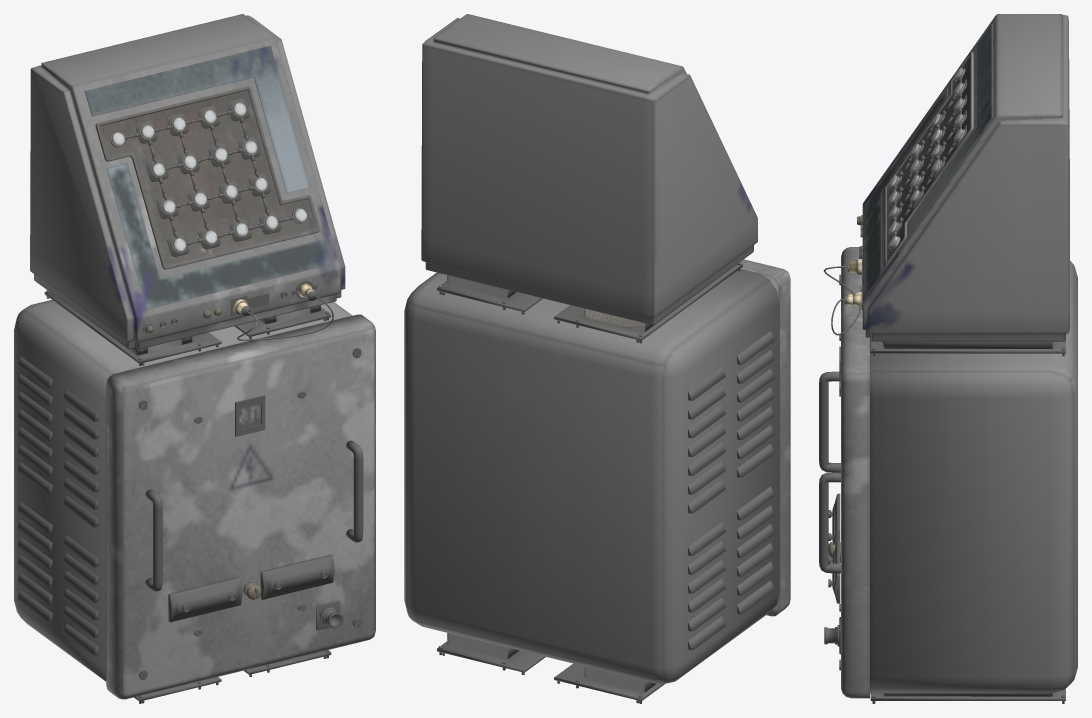
File: panel_kostnica_fin.glb
3 renders of one model, left to right at view 1: azimuth 30°, elevation 25°; view 2: azimuth 150°, elevation 25°; view 3: azimuth 270°, elevation 25°, orthographic. The views are drawn at different scales.
Visible parts, largest first — view 1: Cube.033, Plane.021, Cube.032, Plane.022, Plane.024, Plane.026, Plane.014, Cylinder.042, Plane.018, Plane.016, Plane.019, Plane.017 (+3 smaller); view 2: Cube.032, Plane.021, Cube.033, Cylinder.042, Cylinder.053, Plane.016, Plane.018, Plane.017, Plane.019; view 3: Cube.032, Plane.021, Cube.033, Plane.022, Cylinder.042, Plane.024, Cylinder.033, Plane.026, Cylinder.053, Plane.014.
Boxes of the visible parts, bbox=[...] form: Cube.033: bbox=[106, 314, 375, 699]; Plane.021: bbox=[30, 14, 345, 349]; Cube.032: bbox=[14, 300, 352, 681]; Plane.022: bbox=[95, 86, 320, 269]; Plane.024: bbox=[85, 45, 310, 193]; Plane.026: bbox=[106, 163, 331, 309]; Plane.014: bbox=[168, 554, 334, 622]; Cylinder.042: bbox=[44, 290, 331, 365]; Plane.018: bbox=[63, 389, 98, 527]; Plane.016: bbox=[17, 356, 52, 493]; Plane.019: bbox=[63, 535, 98, 655]; Plane.017: bbox=[17, 502, 52, 621]; Cube.032: bbox=[404, 269, 779, 683]; Plane.021: bbox=[421, 14, 757, 324]; Cube.033: bbox=[740, 259, 790, 616]; Cylinder.042: bbox=[437, 262, 742, 343]; Cylinder.053: bbox=[437, 633, 665, 703]; Plane.016: bbox=[688, 366, 725, 513]; Plane.018: bbox=[737, 331, 774, 477]; Plane.017: bbox=[688, 522, 725, 650]; Plane.019: bbox=[737, 486, 774, 614]; Cube.032: bbox=[870, 261, 1077, 693]; Plane.021: bbox=[862, 14, 1069, 341]; Cube.033: bbox=[841, 247, 869, 698]; Plane.022: bbox=[884, 51, 973, 267]; Cylinder.042: bbox=[870, 338, 1065, 356]; Plane.024: bbox=[910, 24, 992, 233]; Cylinder.033: bbox=[819, 371, 840, 573]; Plane.026: bbox=[866, 87, 947, 295]; Cylinder.053: bbox=[870, 688, 1065, 703]; Plane.014: bbox=[832, 493, 840, 603].
Bounding box in the file's own units: 3.23 × 6.74 × 2.67.
Materials: 2 (2 with a texture image).
